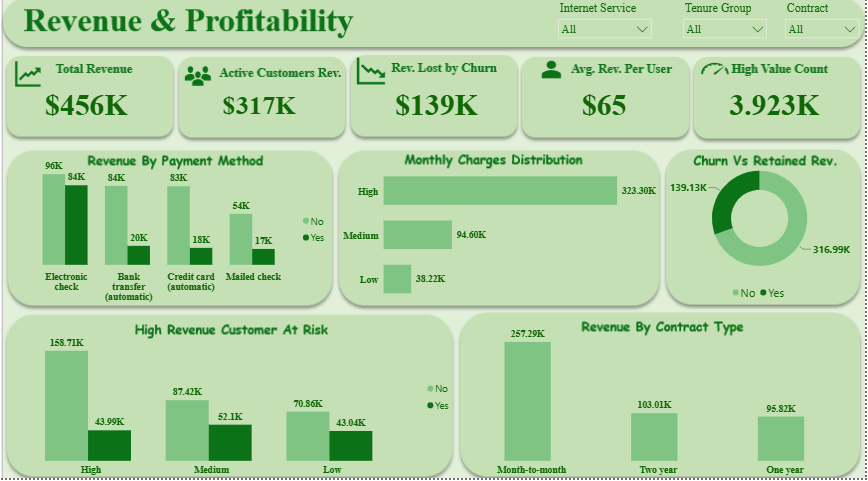

This screenshot's page, from the dashboard's own definition file:
{"tool":"powerbi","page":{"name":"Revenue & Profitability","canvas":[1450,800],"ordinal":2},"visuals":[{"type":"image","box":[10,0,1440,800],"z":0},{"type":"donutChart","fields":{"Category":["WA_Fn_UseC__Telco_Customer_Chur.Churn"],"Y":["Sum(WA_Fn_UseC__Telco_Customer_Chur.Monthly Charges)"]},"box":[1098,256,352,256],"z":1000},{"type":"clusteredColumnChart","fields":{"Category":["WA_Fn_UseC__Telco_Customer_Chur.Contract"],"Y":["Sum(WA_Fn_UseC__Telco_Customer_Chur.Monthly Charges)"]},"box":[762,528,688,272],"z":2000},{"type":"clusteredColumnChart","fields":{"Category":["WA_Fn_UseC__Telco_Customer_Chur.Engagement Level"],"Y":["Sum(WA_Fn_UseC__Telco_Customer_Chur.Monthly Charges)"],"Series":["WA_Fn_UseC__Telco_Customer_Chur.Churn"]},"box":[0,528,768,272],"z":3000},{"type":"barChart","fields":{"Category":["WA_Fn_UseC__Telco_Customer_Chur.Monthly Charges Group"],"Y":["Sum(WA_Fn_UseC__Telco_Customer_Chur.Monthly Charges)"]},"box":[576,256,528,272],"z":4000},{"type":"cardVisual","fields":{"Data":["Sum(WA_Fn_UseC__Telco_Customer_Chur.Monthly Charges)"]},"box":[0,96,304,160],"z":5000},{"type":"cardVisual","fields":{"Data":["Sum(WA_Fn_UseC__Telco_Customer_Chur.Revenue Lost)"]},"box":[592,96,288,160],"z":6000},{"type":"cardVisual","fields":{"Data":["Sum(WA_Fn_UseC__Telco_Customer_Chur.Active Revenue)"]},"box":[288,96,304,160],"z":7000},{"type":"cardVisual","fields":{"Data":["Avg(WA_Fn_UseC__Telco_Customer_Chur.Monthly Charges)"]},"box":[864,96,304,160],"z":8000},{"type":"cardVisual","fields":{"Data":["WA_Fn_UseC__Telco_Customer_Chur.High Value Count"]},"box":[1146,96,304,160],"z":9000},{"type":"slicer","fields":{"Values":["WA_Fn_UseC__Telco_Customer_Chur.Internet Service"]},"box":[928,0,176,80],"z":10000},{"type":"slicer","fields":{"Values":["WA_Fn_UseC__Telco_Customer_Chur.Tenure Group"]},"box":[1136,0,160,80],"z":11000},{"type":"slicer","fields":{"Values":["WA_Fn_UseC__Telco_Customer_Chur.Contract"]},"box":[1306,0,144,80],"z":12000},{"type":"clusteredColumnChart","fields":{"Series":["WA_Fn_UseC__Telco_Customer_Chur.Churn"],"Y":["Sum(WA_Fn_UseC__Telco_Customer_Chur.Monthly Charges)"],"Category":["WA_Fn_UseC__Telco_Customer_Chur.Payment Method"]},"box":[16,256,544,256],"z":13000}]}

Visuals, with their boxes in screenshot pixels (x1, y1, x2, y2), scaled from the page's 1450x800 canvas onto the 868x481 screenshot:
image: BBox(6, 0, 867, 480)
donutChart - WA_Fn_UseC__Telco_Customer_Chur.Churn x Sum(WA_Fn_UseC__Telco_Customer_Chur.Monthly Charges): BBox(657, 154, 867, 308)
clusteredColumnChart - WA_Fn_UseC__Telco_Customer_Chur.Contract x Sum(WA_Fn_UseC__Telco_Customer_Chur.Monthly Charges): BBox(456, 317, 867, 480)
clusteredColumnChart - WA_Fn_UseC__Telco_Customer_Chur.Engagement Level x Sum(WA_Fn_UseC__Telco_Customer_Chur.Monthly Charges): BBox(0, 317, 460, 480)
barChart - WA_Fn_UseC__Telco_Customer_Chur.Monthly Charges Group x Sum(WA_Fn_UseC__Telco_Customer_Chur.Monthly Charges): BBox(345, 154, 661, 317)
cardVisual - Sum(WA_Fn_UseC__Telco_Customer_Chur.Monthly Charges): BBox(0, 58, 182, 154)
cardVisual - Sum(WA_Fn_UseC__Telco_Customer_Chur.Revenue Lost): BBox(354, 58, 527, 154)
cardVisual - Sum(WA_Fn_UseC__Telco_Customer_Chur.Active Revenue): BBox(172, 58, 354, 154)
cardVisual - Avg(WA_Fn_UseC__Telco_Customer_Chur.Monthly Charges): BBox(517, 58, 699, 154)
cardVisual - WA_Fn_UseC__Telco_Customer_Chur.High Value Count: BBox(686, 58, 867, 154)
slicer - WA_Fn_UseC__Telco_Customer_Chur.Internet Service: BBox(556, 0, 661, 48)
slicer - WA_Fn_UseC__Telco_Customer_Chur.Tenure Group: BBox(680, 0, 776, 48)
slicer - WA_Fn_UseC__Telco_Customer_Chur.Contract: BBox(782, 0, 867, 48)
clusteredColumnChart - WA_Fn_UseC__Telco_Customer_Chur.Churn x Sum(WA_Fn_UseC__Telco_Customer_Chur.Monthly Charges): BBox(10, 154, 335, 308)
